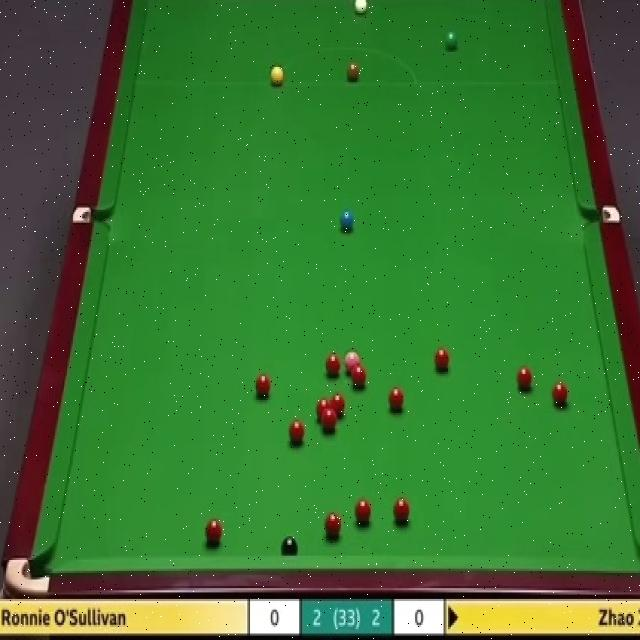black-ball: (280, 537, 298, 554)
blue-ball: (339, 208, 353, 232)
brown-ball: (346, 61, 360, 83)
green-ball: (446, 27, 458, 49)
pink-ball: (344, 349, 360, 375)
red-ball: (514, 364, 534, 392), (204, 516, 223, 544), (354, 498, 372, 527), (552, 382, 570, 411), (253, 371, 272, 398), (323, 510, 341, 538), (321, 407, 338, 436), (287, 417, 304, 445), (328, 391, 346, 417), (393, 498, 411, 522), (326, 353, 341, 379), (389, 385, 404, 411), (434, 348, 450, 370), (317, 398, 331, 423), (352, 367, 366, 388)
white-ball: (352, 0, 368, 13)
yellow-ball: (268, 65, 284, 87)
